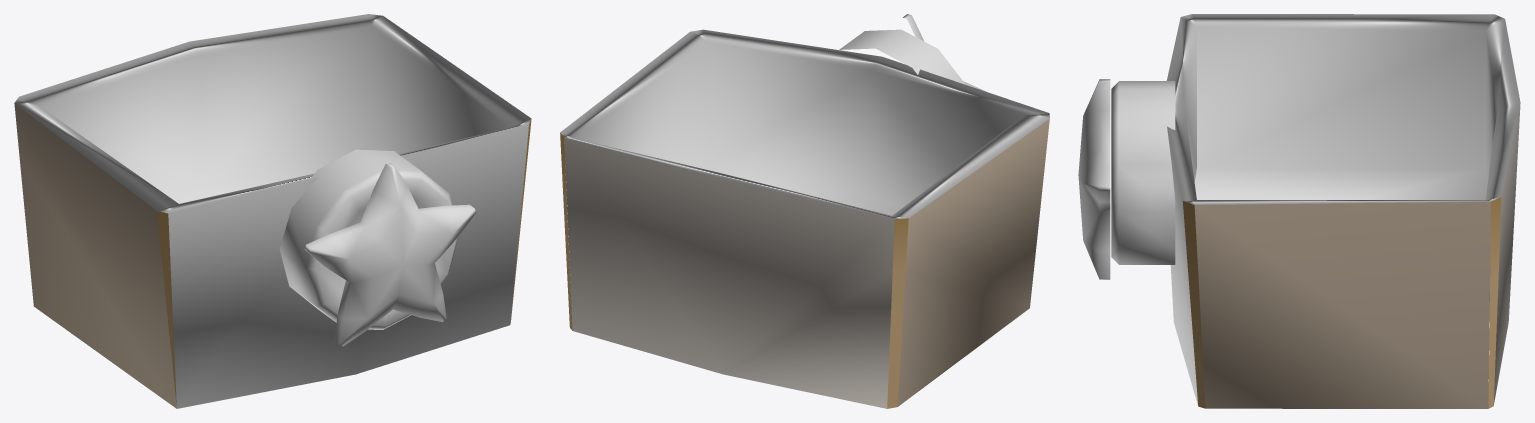
Rendered from trunkProgressionRookie.glb.
3 views of the same model, side by side, from view 1: azimuth 30°, elevation 25°; view 2: azimuth 150°, elevation 25°; view 3: azimuth 270°, elevation 25° (orthographic). The views are drawn at different scales.
Parts seen in each view (by area): view 1: trunkProgressionRookie; view 2: trunkProgressionRookie; view 3: trunkProgressionRookie.
Part boxes in pixels (bbox=[...]): trunkProgressionRookie: bbox=[14, 14, 531, 408]; trunkProgressionRookie: bbox=[560, 14, 1049, 408]; trunkProgressionRookie: bbox=[1078, 14, 1520, 408].
Size of the model in its own units: 0.5827 by 0.3451 by 0.5704.
